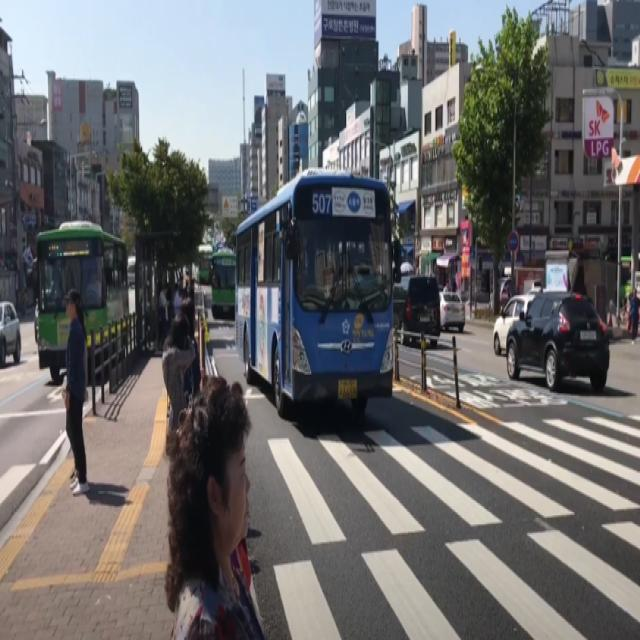bus-number: (311, 190, 332, 218)
